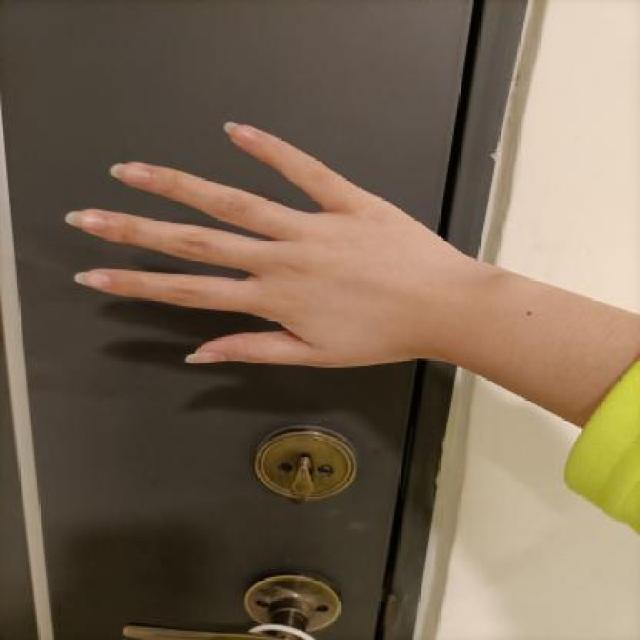bare_hand: (34, 99, 520, 424)
